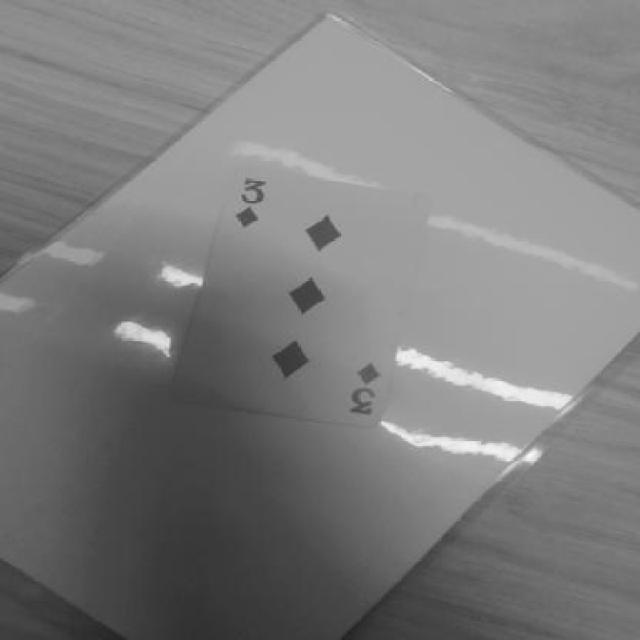3D: (342, 356, 396, 418), (228, 179, 282, 236)
